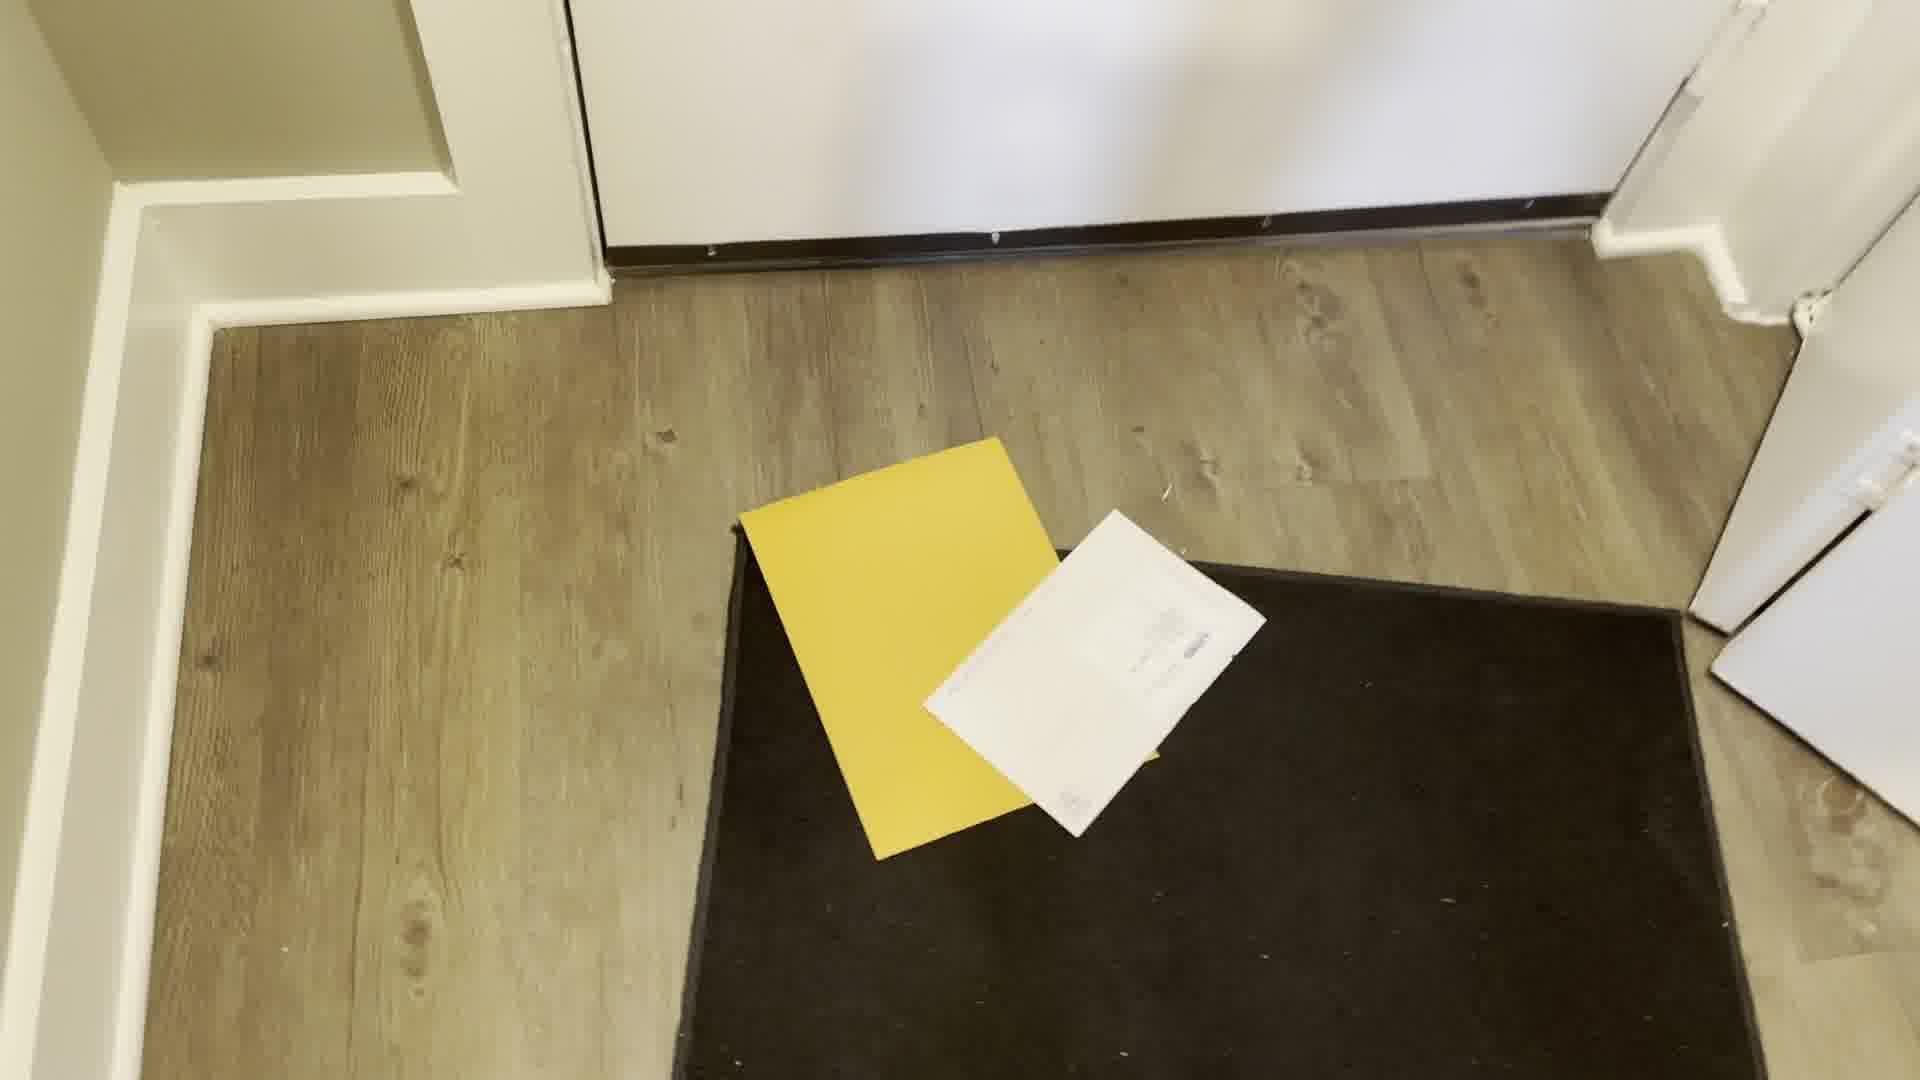envelope: (920, 493, 1271, 847)
